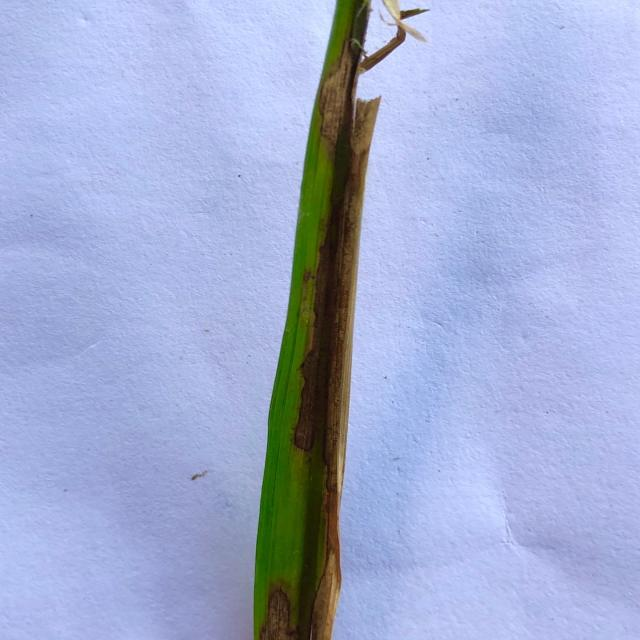Leaf Blight: (259, 0, 427, 640)
